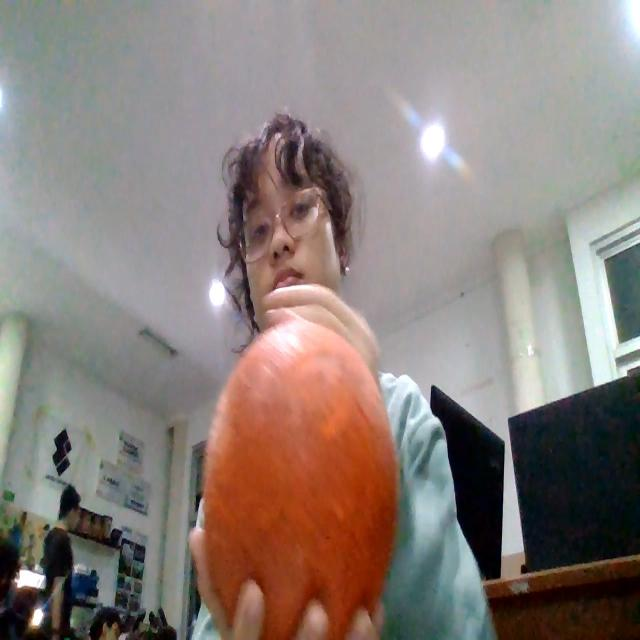ball: (201, 311, 401, 638)
